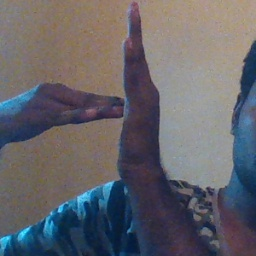Z: (53, 1, 176, 182)
